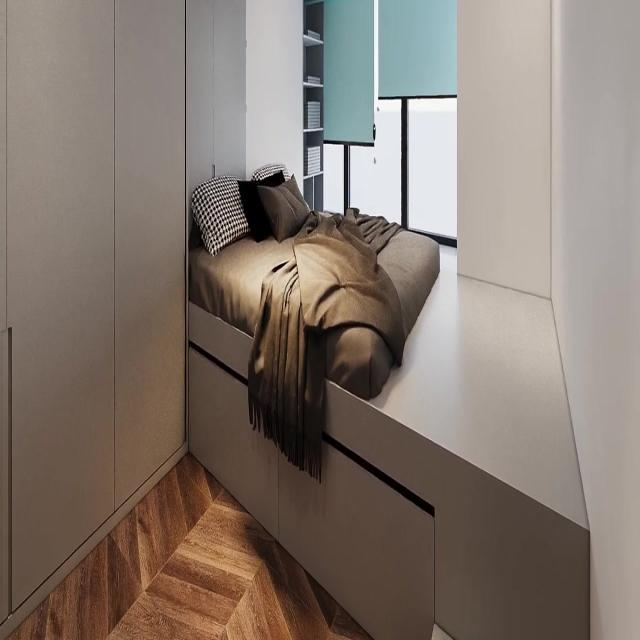obstacle: (185, 162, 438, 398)
